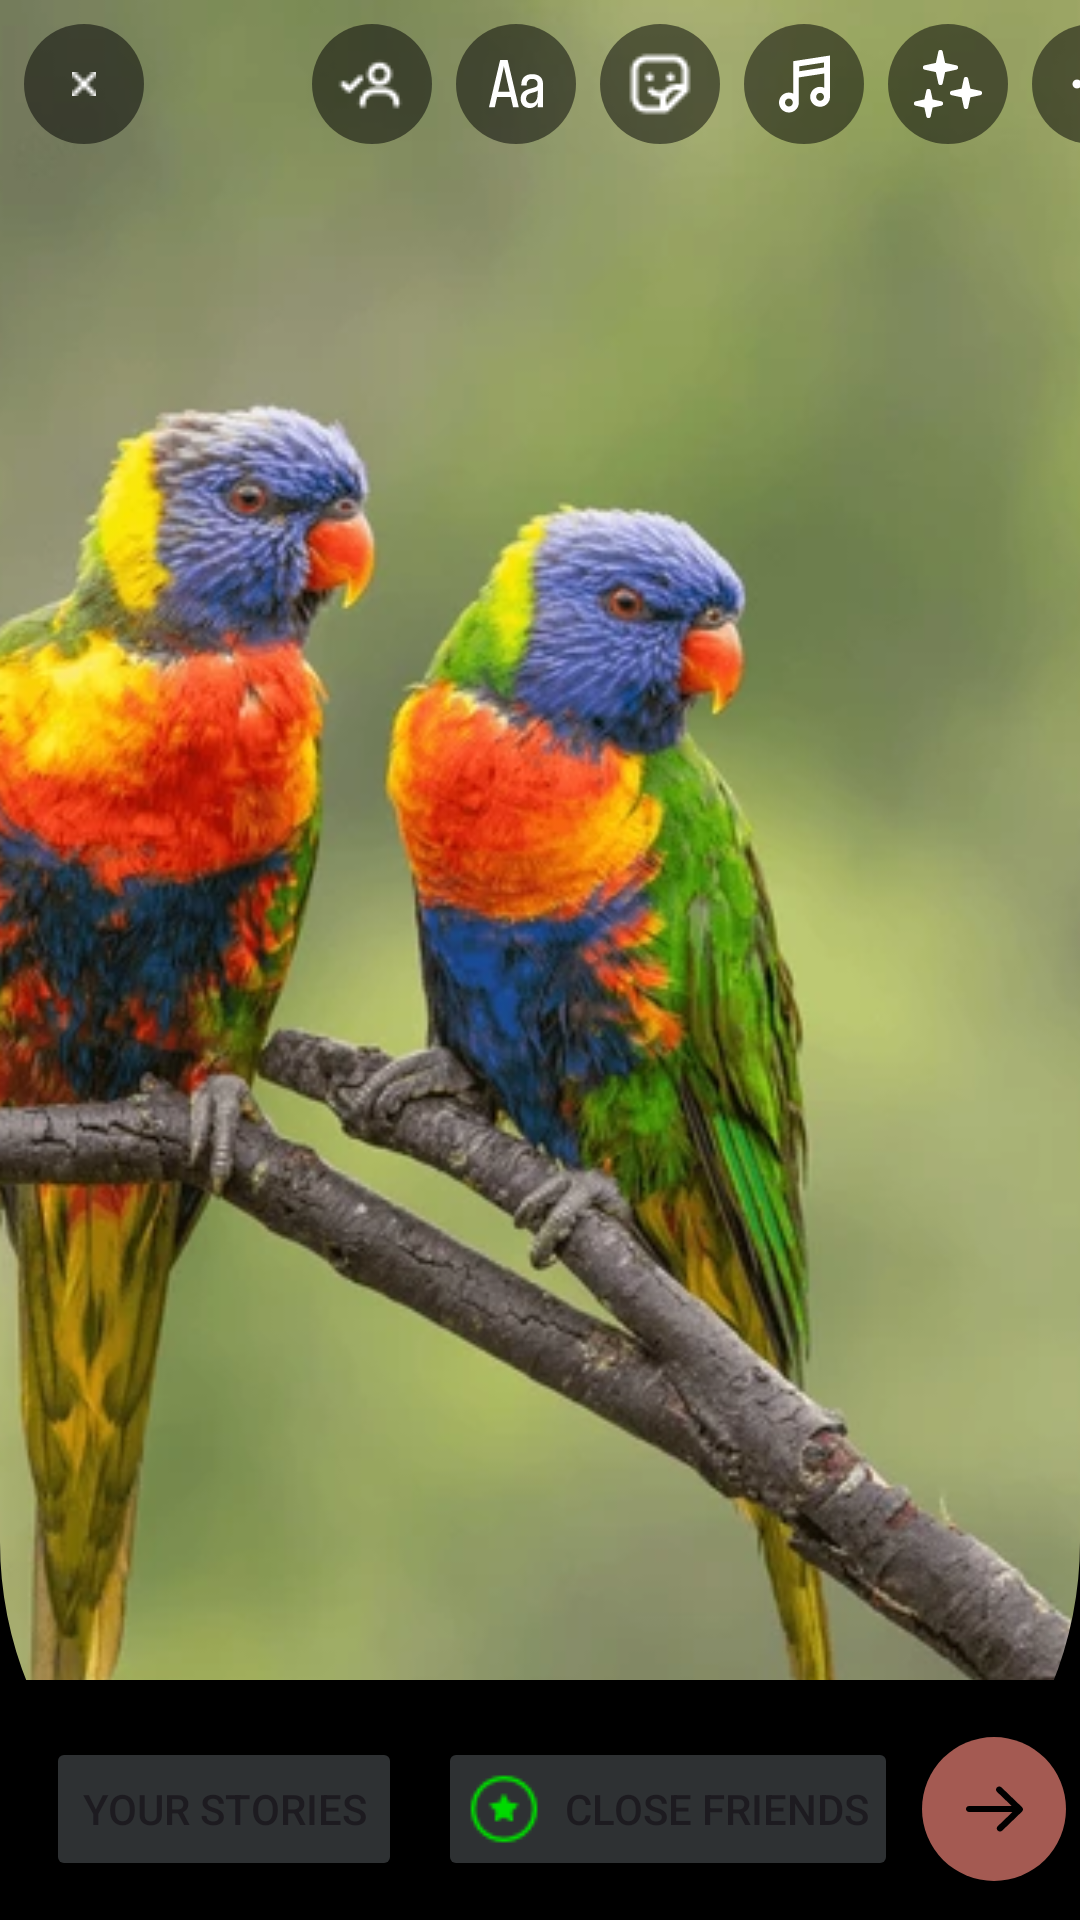

Named icons in this screenshot (1080px×1920px) and their centers, (x=x, y=y):
close: (x=84, y=84)
filters: (x=948, y=84)
music: (x=804, y=84)
partnership: (x=372, y=84)
stickers: (x=660, y=84)
text: (x=516, y=84)
